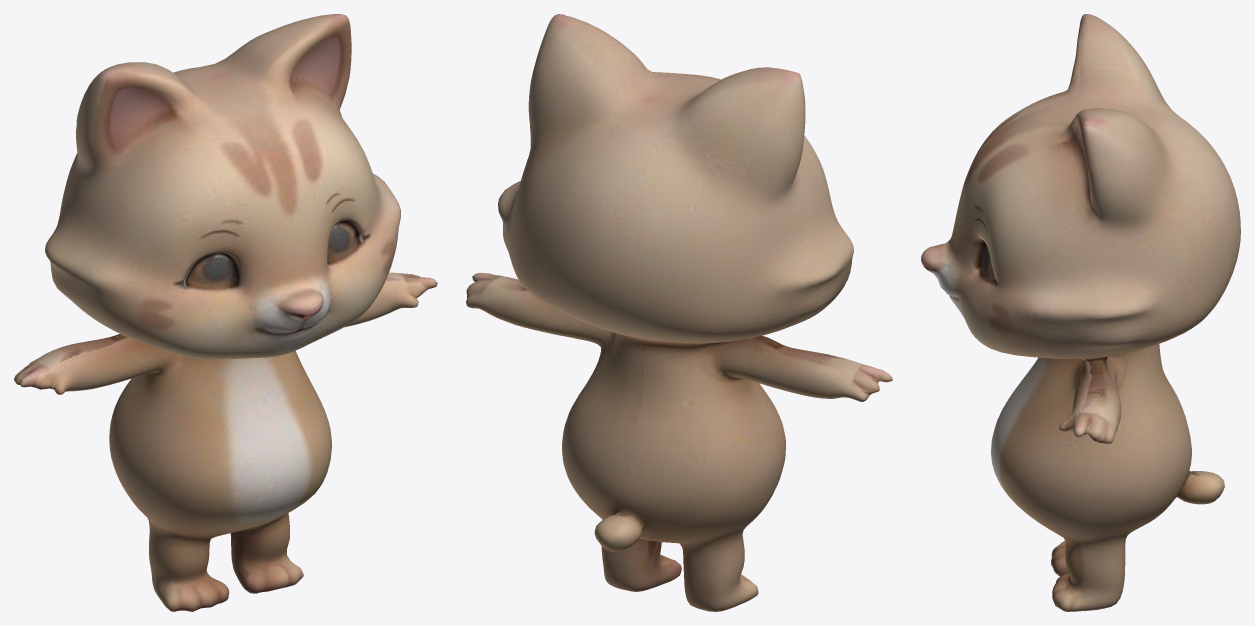
The model's file is round-cat.glb.
The picture shows the model from 3 angles, left to right: view 1: azimuth 30°, elevation 25°; view 2: azimuth 150°, elevation 25°; view 3: azimuth 270°, elevation 25°; orthographic projection. The views are drawn at different scales.
Visible parts, largest first — view 1: RoundCat; view 2: RoundCat; view 3: RoundCat.
Boxes of the visible parts, x1=… form: RoundCat: x1=14, y1=14, x2=437, y2=611; RoundCat: x1=466, y1=14, x2=892, y2=611; RoundCat: x1=921, y1=14, x2=1240, y2=611.
Size of the model in its own units: 1.14 by 1.43 by 0.7991.
1 material, 1 textured.
